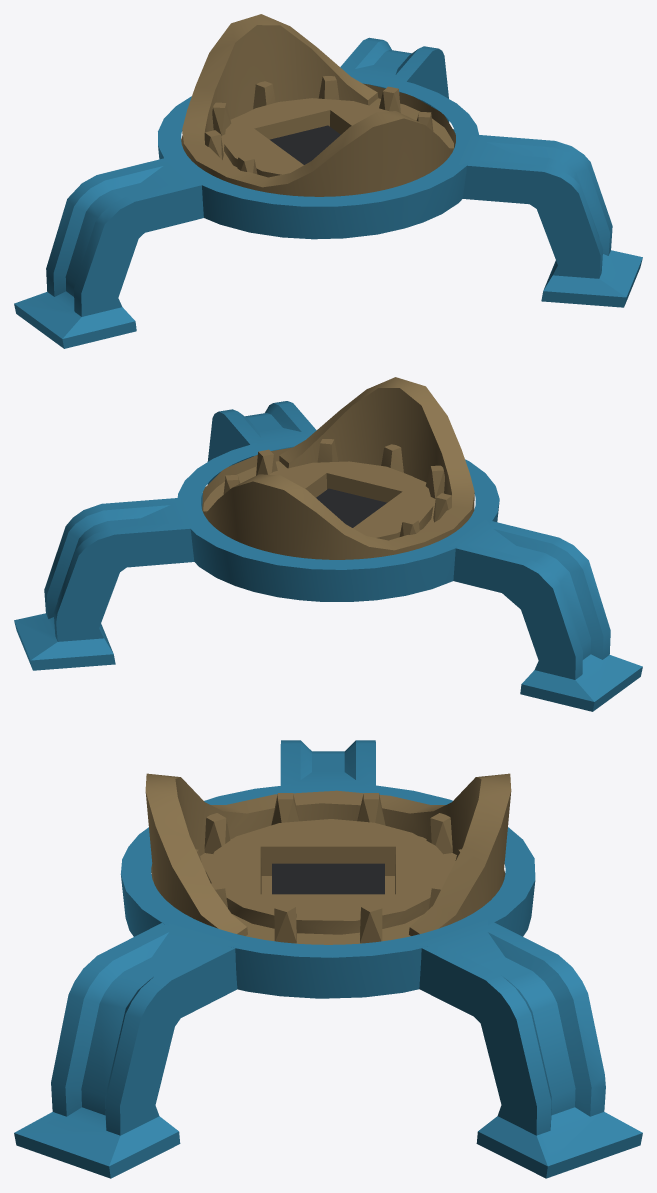
The model's file is fast-inserter-west.glb.
3 renders of one model, top to bottom at view 1: azimuth 30°, elevation 25°; view 2: azimuth 150°, elevation 25°; view 3: azimuth 270°, elevation 25°, orthographic. The views are drawn at different scales.
Visible parts, largest first — view 1: body; view 2: body; view 3: body.
Part boxes in pixels (bbox=[...]): body: bbox=[14, 14, 642, 348]; body: bbox=[14, 377, 642, 711]; body: bbox=[14, 740, 642, 1178].
Size of the model in its own units: 1.15 by 0.4117 by 0.938.
